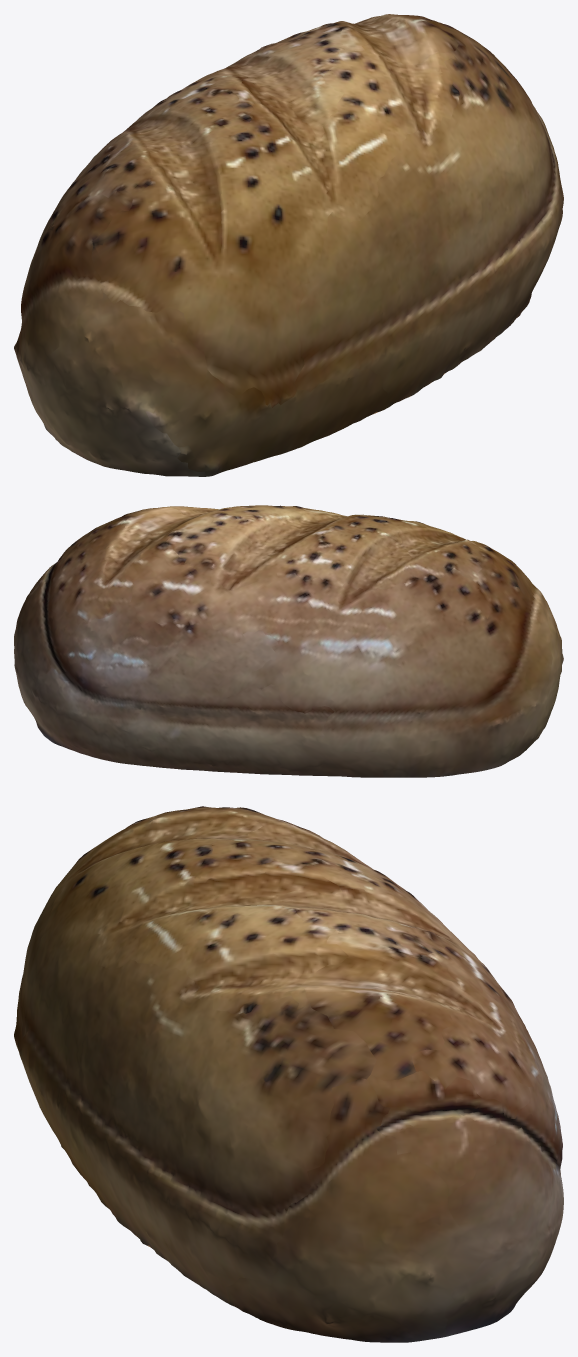
Rendered from CassBread.glb.
3 views of the same model, one above another, from view 1: azimuth 30°, elevation 25°; view 2: azimuth 150°, elevation 25°; view 3: azimuth 270°, elevation 25° (orthographic). The views are drawn at different scales.
Parts seen in each view (by area): view 1: Cass - Grandma Bread; view 2: Cass - Grandma Bread; view 3: Cass - Grandma Bread.
Boxes of the visible parts, x1=… form: Cass - Grandma Bread: x1=14, y1=14, x2=563, y2=476; Cass - Grandma Bread: x1=14, y1=505, x2=563, y2=777; Cass - Grandma Bread: x1=14, y1=806, x2=563, y2=1342.
Size of the model in its own units: 4.13 by 1.81 by 2.95.
Materials: 1 (1 with a texture image).
